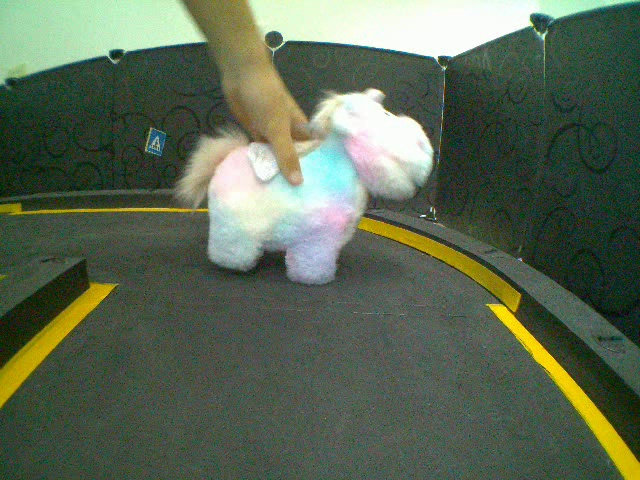unicorn: (165, 88, 434, 288)
